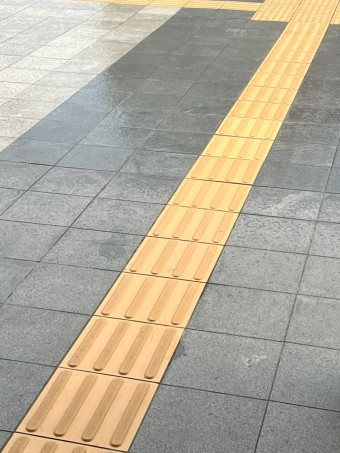guideBlock: (34, 371, 156, 448), (64, 318, 182, 379), (135, 234, 246, 285), (107, 274, 204, 325), (158, 208, 225, 250), (175, 175, 241, 210), (235, 92, 288, 128), (214, 136, 273, 165), (199, 156, 254, 183), (225, 122, 276, 141)
